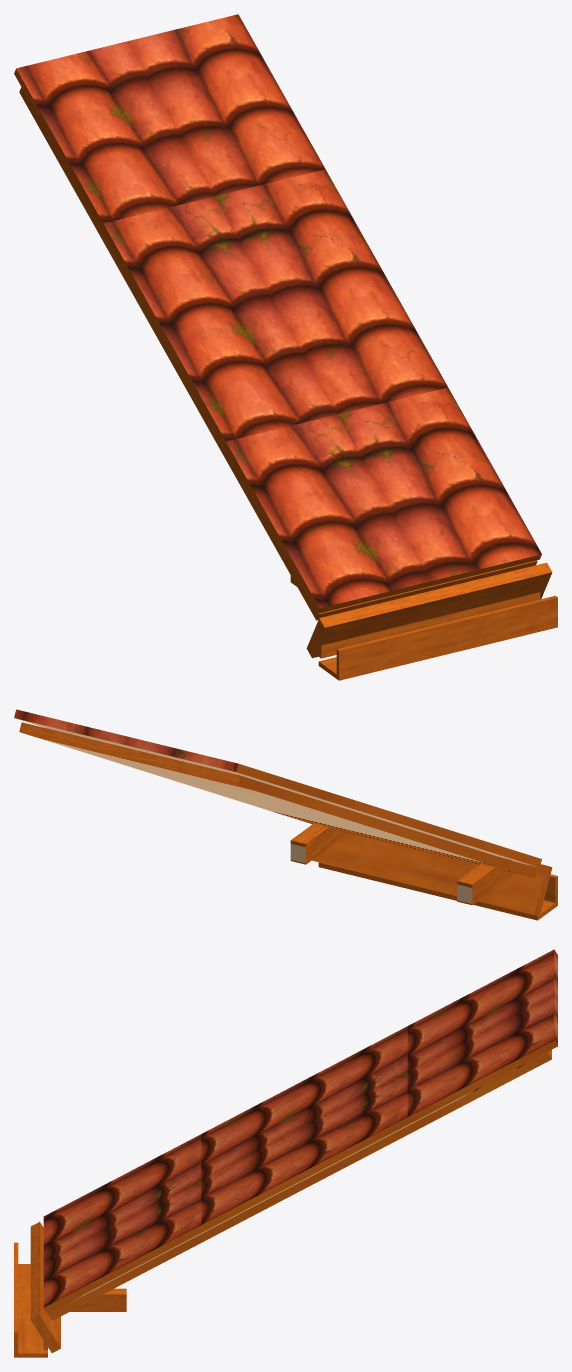
Rendered from Roof_Panel_1m.fbx.
The picture shows the model from 3 angles, top to bottom: view 1: azimuth 30°, elevation 25°; view 2: azimuth 150°, elevation 25°; view 3: azimuth 270°, elevation 25°; orthographic projection. The views are drawn at different scales.
Parts seen in each view (by area): view 1: Roof_Panel_1m; view 2: Roof_Panel_1m; view 3: Roof_Panel_1m.
Boxes of the visible parts, <box> form: Roof_Panel_1m: <box>14,14,557,680</box>; Roof_Panel_1m: <box>14,709,557,920</box>; Roof_Panel_1m: <box>14,949,557,1357</box>.
Size of the model in its own units: 1.04 by 1.65 by 2.56.
